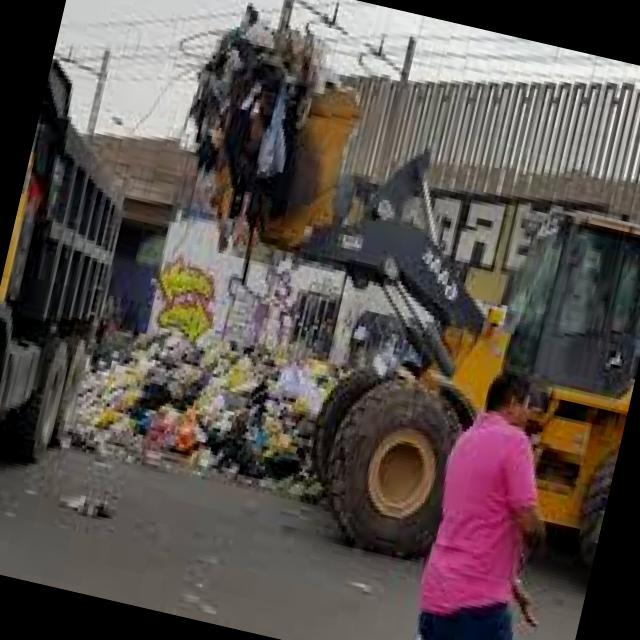garbage: (57, 272, 386, 518), (137, 0, 374, 254)
